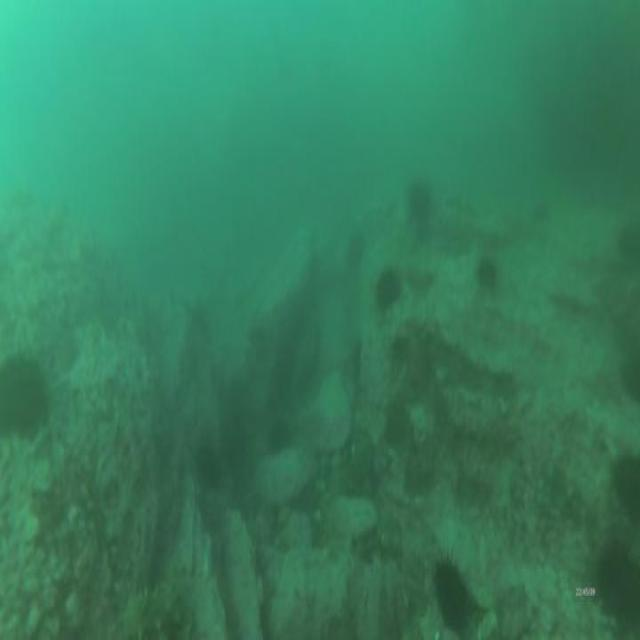echinus: (590, 528, 640, 627), (0, 347, 52, 442), (428, 548, 478, 640), (609, 438, 640, 520), (192, 433, 224, 493), (402, 172, 434, 231), (372, 262, 404, 321), (382, 397, 412, 450), (614, 215, 640, 273), (263, 414, 295, 460), (474, 252, 502, 296)
